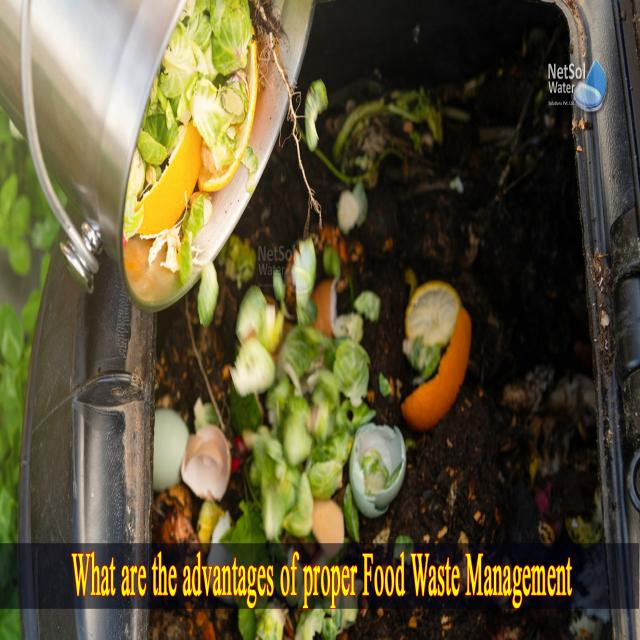Food -Biodegradable-: (142, 142, 486, 640), (123, 0, 267, 277)
